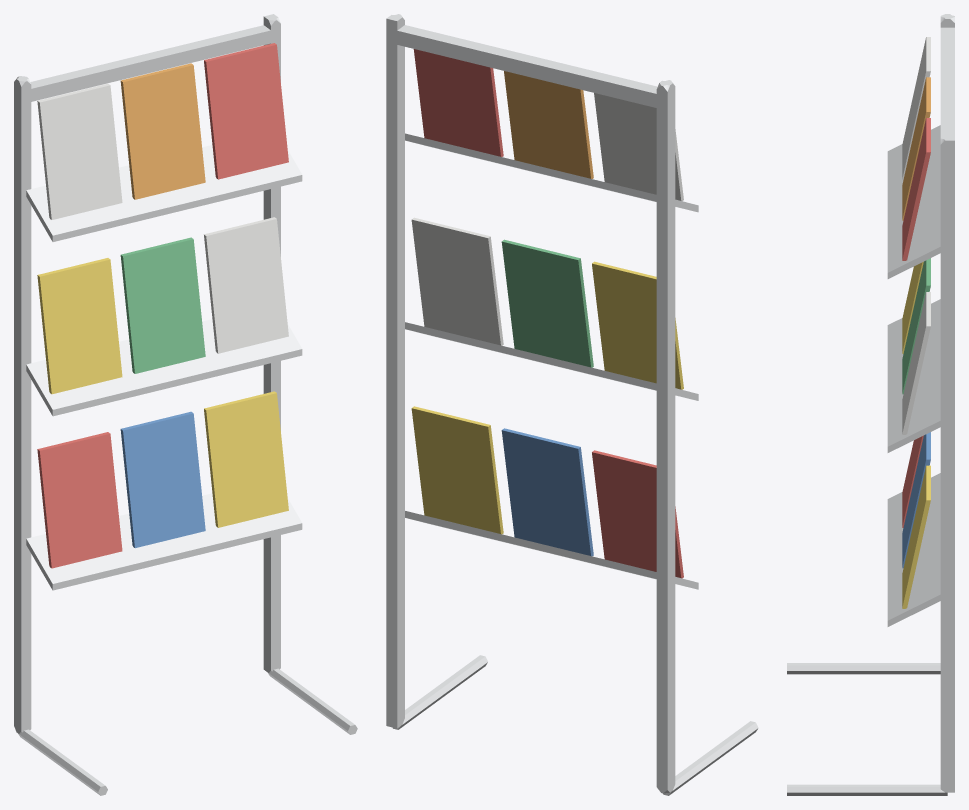
File: brochure_rack.glb
3 renders of one model, left to right at view 1: azimuth 30°, elevation 25°; view 2: azimuth 150°, elevation 25°; view 3: azimuth 270°, elevation 25°, orthographic. The views are drawn at different scales.
Visible parts, largest first — view 1: brochure_rack_chrome, brochure_rack_flag_y, brochure_rack_flag_r, brochure_rack_paint_w, brochure_rack_flag_b, brochure_rack_flag_o, brochure_rack_flag_g; view 2: brochure_rack_chrome, brochure_rack_flag_y, brochure_rack_paint_w, brochure_rack_flag_r, brochure_rack_flag_g, brochure_rack_flag_b, brochure_rack_flag_o; view 3: brochure_rack_chrome, brochure_rack_paint_w, brochure_rack_flag_y, brochure_rack_flag_r, brochure_rack_flag_o, brochure_rack_flag_b, brochure_rack_flag_g.
Part boxes in pixels (left/top/right/bottom): brochure_rack_chrome: left=14, top=14, right=357, bottom=795; brochure_rack_flag_y: left=37, top=258, right=288, bottom=527; brochure_rack_flag_r: left=37, top=43, right=288, bottom=568; brochure_rack_paint_w: left=37, top=83, right=288, bottom=353; brochure_rack_flag_b: left=120, top=411, right=205, bottom=548; brochure_rack_flag_o: left=120, top=63, right=205, bottom=199; brochure_rack_flag_g: left=120, top=237, right=205, bottom=373; brochure_rack_chrome: left=386, top=14, right=758, bottom=795; brochure_rack_flag_y: left=411, top=261, right=683, bottom=534; brochure_rack_paint_w: left=411, top=93, right=683, bottom=345; brochure_rack_flag_r: left=413, top=49, right=683, bottom=578; brochure_rack_flag_g: left=501, top=239, right=593, bottom=367; brochure_rack_flag_b: left=501, top=428, right=593, bottom=556; brochure_rack_flag_o: left=504, top=71, right=593, bottom=178; brochure_rack_chrome: left=787, top=14, right=954, bottom=795; brochure_rack_paint_w: left=902, top=37, right=930, bottom=434; brochure_rack_flag_y: left=902, top=261, right=930, bottom=608; brochure_rack_flag_r: left=902, top=118, right=930, bottom=527; brochure_rack_flag_o: left=902, top=77, right=930, bottom=220; brochure_rack_flag_b: left=902, top=432, right=930, bottom=568; brochure_rack_flag_g: left=902, top=258, right=930, bottom=394.
Size of the model in its own units: 0.624 by 1.51 by 0.35.
